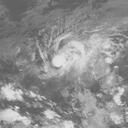cyclone: (39, 21, 110, 77)
